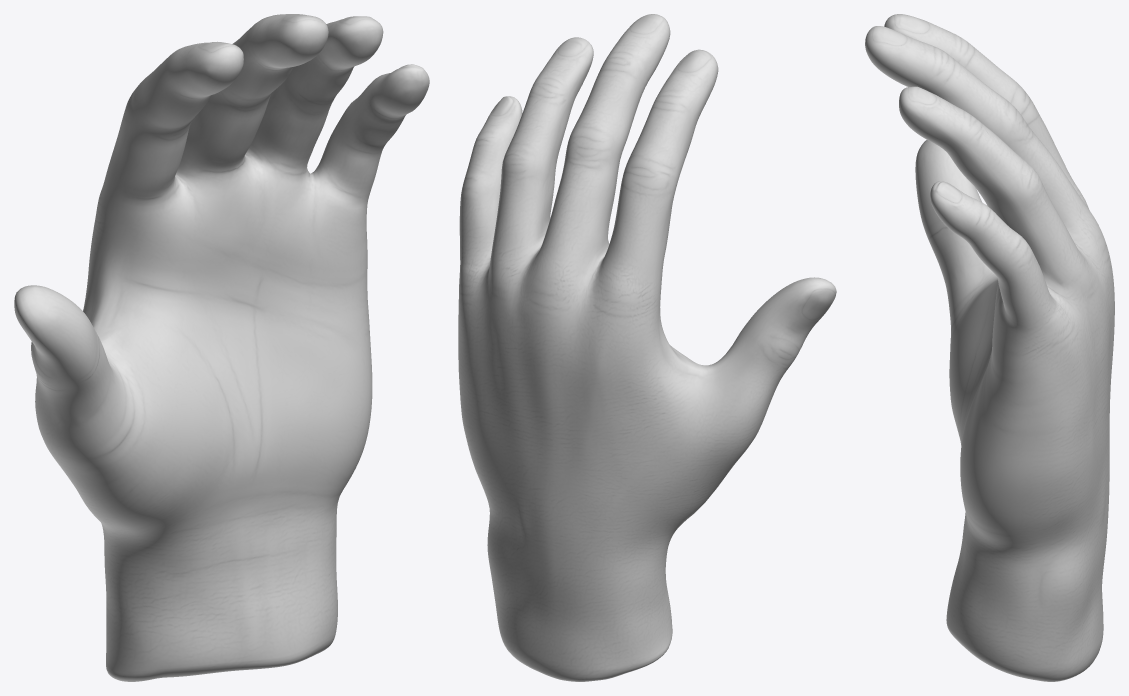
File: Hand.glb
3 renders of one model, left to right at view 1: azimuth 30°, elevation 25°; view 2: azimuth 150°, elevation 25°; view 3: azimuth 270°, elevation 25°, orthographic. The views are drawn at different scales.
Visible parts, largest first — view 1: hand_open.1; view 2: hand_open.1; view 3: hand_open.1.
Part boxes in pixels (box(x1,y1,x2,y2)): hand_open.1: box(14, 14, 429, 681); hand_open.1: box(458, 14, 836, 681); hand_open.1: box(865, 14, 1114, 681).
Bounding box in the file's own units: 0.147 × 0.2451 × 0.0886.
1 material, 1 textured.
